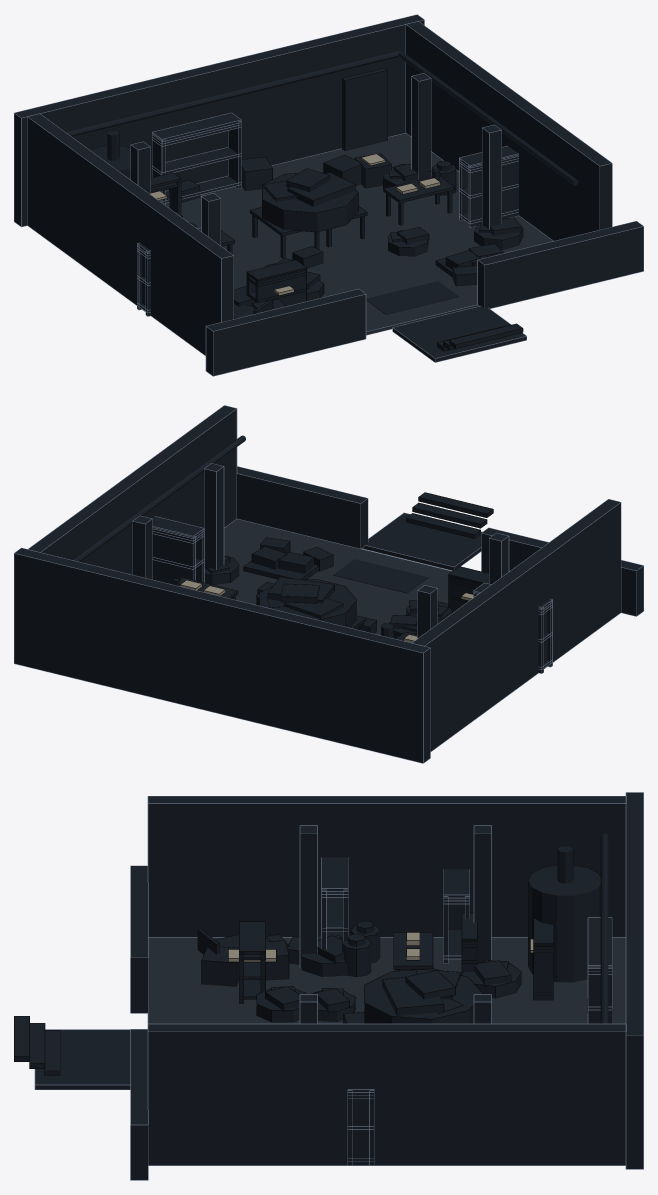
File: 上午十一点零七分.fbx
The picture shows the model from 3 angles, top to bottom: view 1: azimuth 30°, elevation 25°; view 2: azimuth 150°, elevation 25°; view 3: azimuth 270°, elevation 25°; orthographic projection. The views are drawn at different scales.
Parts seen in each view (by area): view 1: 远墙, 左墙, 地面, 右墙, 近墙_右, 描线_focus_上午十一点零七分_暗, 近墙_左, 纸山, 远旧架, 描线_focus_上午十一点零七分, 楼梯平台, 货梯门 (+21 smaller); view 2: 远墙, 左墙, 右墙, 地面, 近墙_右, 描线_focus_上午十一点零七分_暗, 楼梯平台, 纸山, 右旧架, 近墙_左, 柱_4, 描线_focus_上午十一点零七分 (+14 smaller); view 3: 右墙, 左墙, 地面, 描线_focus_上午十一点零七分_暗, 远墙, 锅炉, 纸山, 楼梯平台, 描线_focus_上午十一点零七分, 近墙_右, 近墙_左, 柱_3 (+23 smaller).
Boxes of the visible parts, x1=… form: 远墙: x1=14, y1=15, x2=424, y2=226; 左墙: x1=27, y1=114, x2=233, y2=355; 地面: x1=165, y1=133, x2=552, y2=334; 右墙: x1=406, y1=21, x2=611, y2=240; 近墙_右: x1=478, y1=221, x2=643, y2=308; 描线_focus_上午十一点零七分_暗: x1=14, y1=14, x2=643, y2=376; 近墙_左: x1=206, y1=289, x2=365, y2=375; 纸山: x1=262, y1=168, x2=357, y2=231; 远旧架: x1=152, y1=113, x2=241, y2=204; 描线_focus_上午十一点零七分: x1=150, y1=68, x2=523, y2=351; 楼梯平台: x1=393, y1=306, x2=526, y2=362; 货梯门: x1=342, y1=68, x2=387, y2=150; 远墙: x1=14, y1=548, x2=430, y2=762; 左墙: x1=413, y1=499, x2=620, y2=751; 右墙: x1=28, y1=405, x2=236, y2=574; 地面: x1=215, y1=519, x2=451, y2=635; 近墙_右: x1=237, y1=466, x2=367, y2=548; 描线_focus_上午十一点零七分_暗: x1=14, y1=405, x2=643, y2=763; 楼梯平台: x1=362, y1=513, x2=481, y2=570; 纸山: x1=260, y1=577, x2=356, y2=627; 右旧架: x1=152, y1=516, x2=203, y2=584; 近墙_左: x1=481, y1=528, x2=643, y2=615; 柱_4: x1=204, y1=463, x2=223, y2=569; 描线_focus_上午十一点零七分: x1=172, y1=492, x2=493, y2=638; 右墙: x1=148, y1=1024, x2=625, y2=1165; 左墙: x1=148, y1=796, x2=625, y2=937; 地面: x1=148, y1=938, x2=625, y2=1023; 描线_focus_上午十一点零七分_暗: x1=34, y1=792, x2=643, y2=1180; 远墙: x1=626, y1=792, x2=643, y2=1168; 锅炉: x1=528, y1=845, x2=600, y2=982; 纸山: x1=364, y1=968, x2=482, y2=1023; 楼梯平台: x1=35, y1=1030, x2=130, y2=1089; 描线_focus_上午十一点零七分: x1=14, y1=912, x2=553, y2=1075; 近墙_右: x1=130, y1=1029, x2=147, y2=1179; 近墙_左: x1=130, y1=866, x2=147, y2=1012; 柱_3: x1=300, y1=826, x2=317, y2=966.
Size of the model in its own units: 1412 by 352 by 1449.
